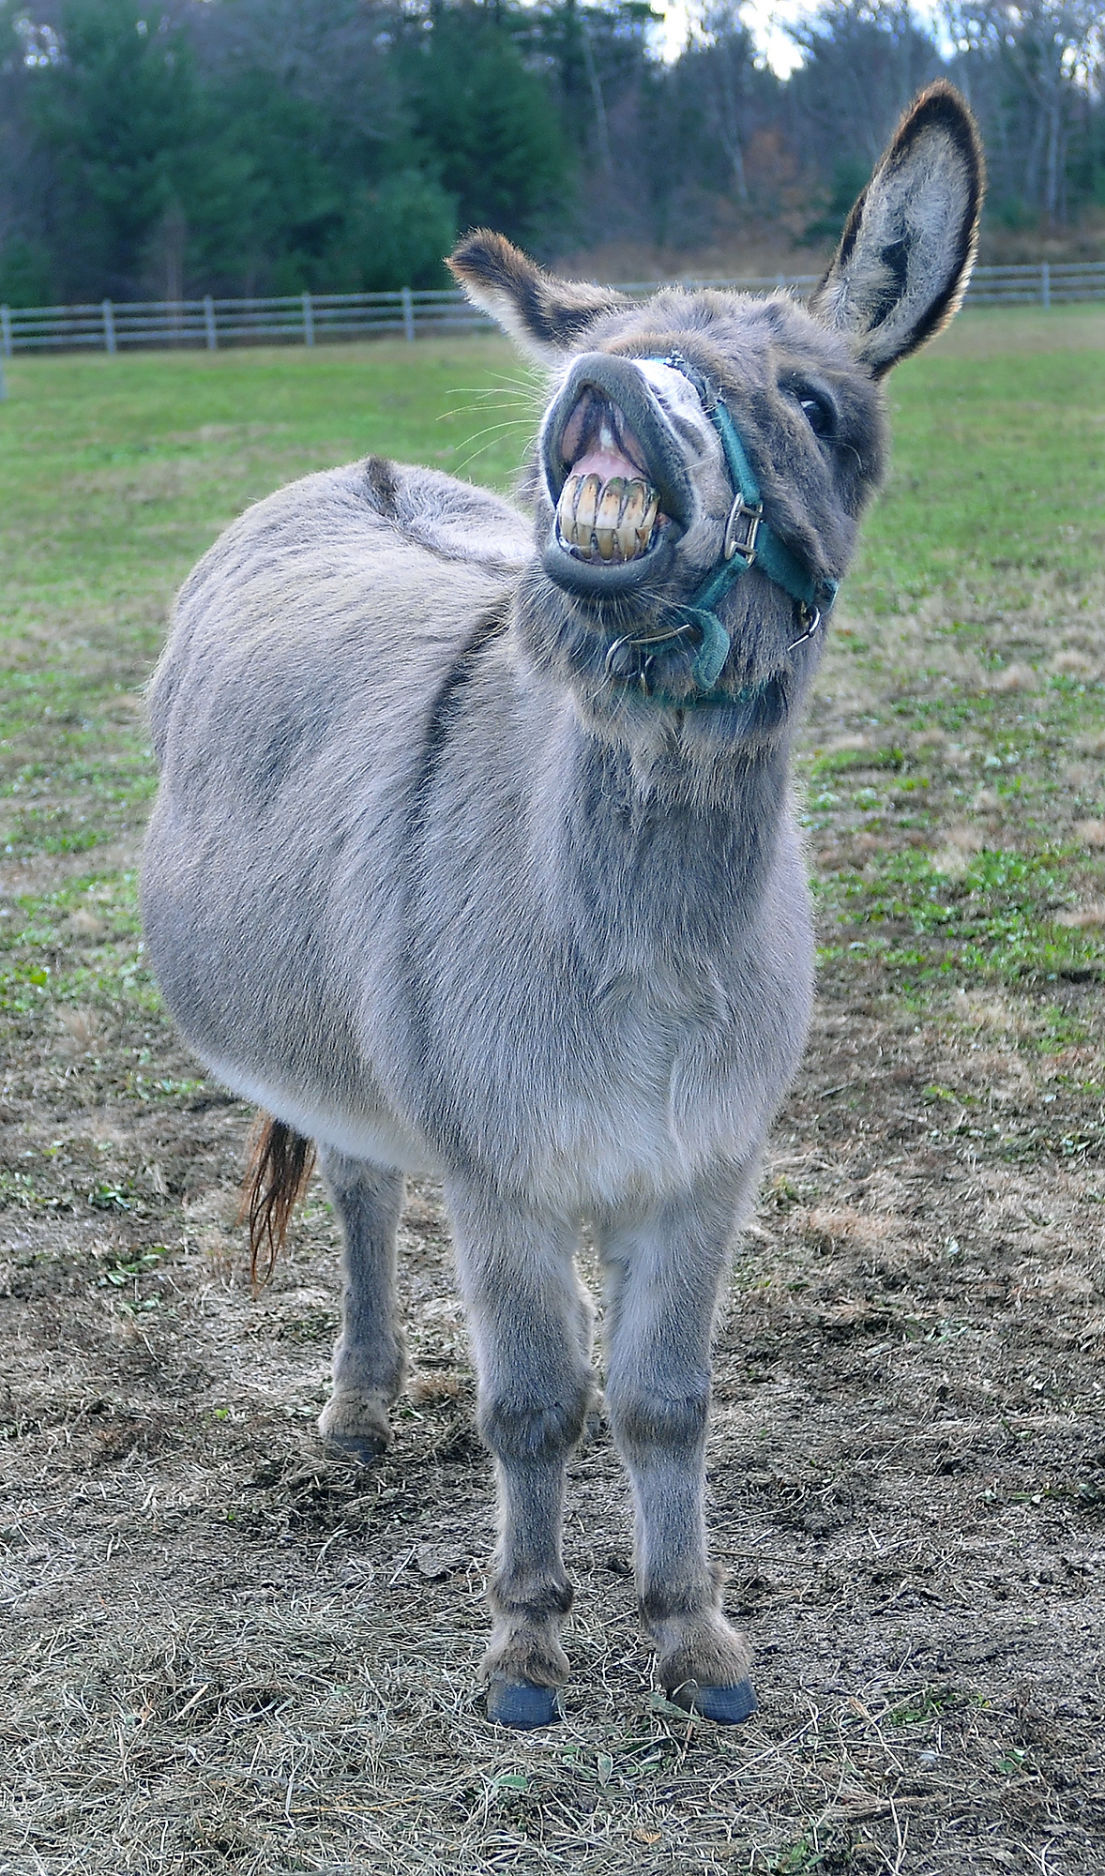donkey: (129, 55, 996, 1731)
